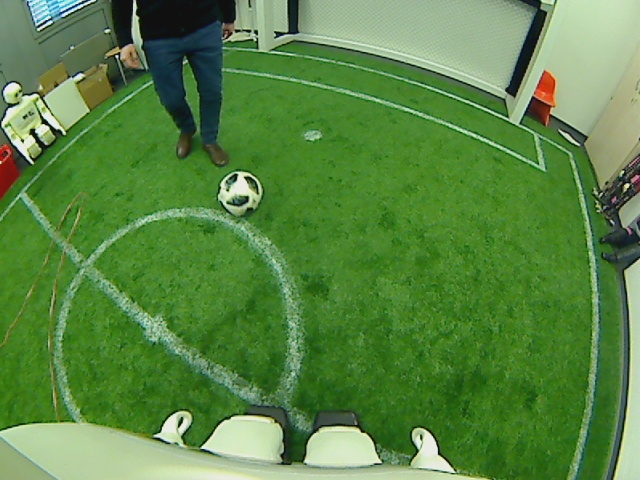ball: (216, 168, 261, 219)
